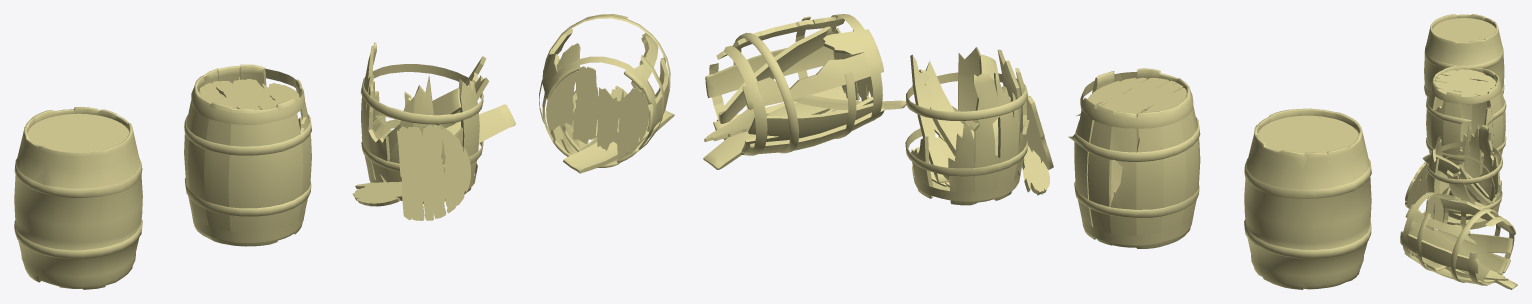
Rendered from Barrels_set.FBX.
The picture shows the model from 3 angles, left to right: view 1: azimuth 30°, elevation 25°; view 2: azimuth 150°, elevation 25°; view 3: azimuth 270°, elevation 25°; orthographic projection. The views are drawn at different scales.
Visible parts, largest first — view 1: Barrel_04, Barrel_01, Barrel_02, Barrel_03; view 2: Barrel_04, Barrel_01, Barrel_03, Barrel_02; view 3: Barrel_03, Barrel_01, Barrel_02, Barrel_04.
Part boxes in pixels (<box>): Barrel_04: <box>14,106,142,289</box>; Barrel_01: <box>184,64,311,246</box>; Barrel_02: <box>352,42,515,220</box>; Barrel_03: <box>539,14,674,173</box>; Barrel_04: <box>1244,108,1371,289</box>; Barrel_01: <box>1068,68,1200,248</box>; Barrel_03: <box>703,14,906,169</box>; Barrel_02: <box>905,47,1053,205</box>; Barrel_03: <box>1400,192,1517,289</box>; Barrel_01: <box>1426,66,1506,173</box>; Barrel_02: <box>1405,125,1502,229</box>; Barrel_04: <box>1424,14,1504,97</box>.
Bounding box in the file's own units: 387 × 81.93 × 96.63.
